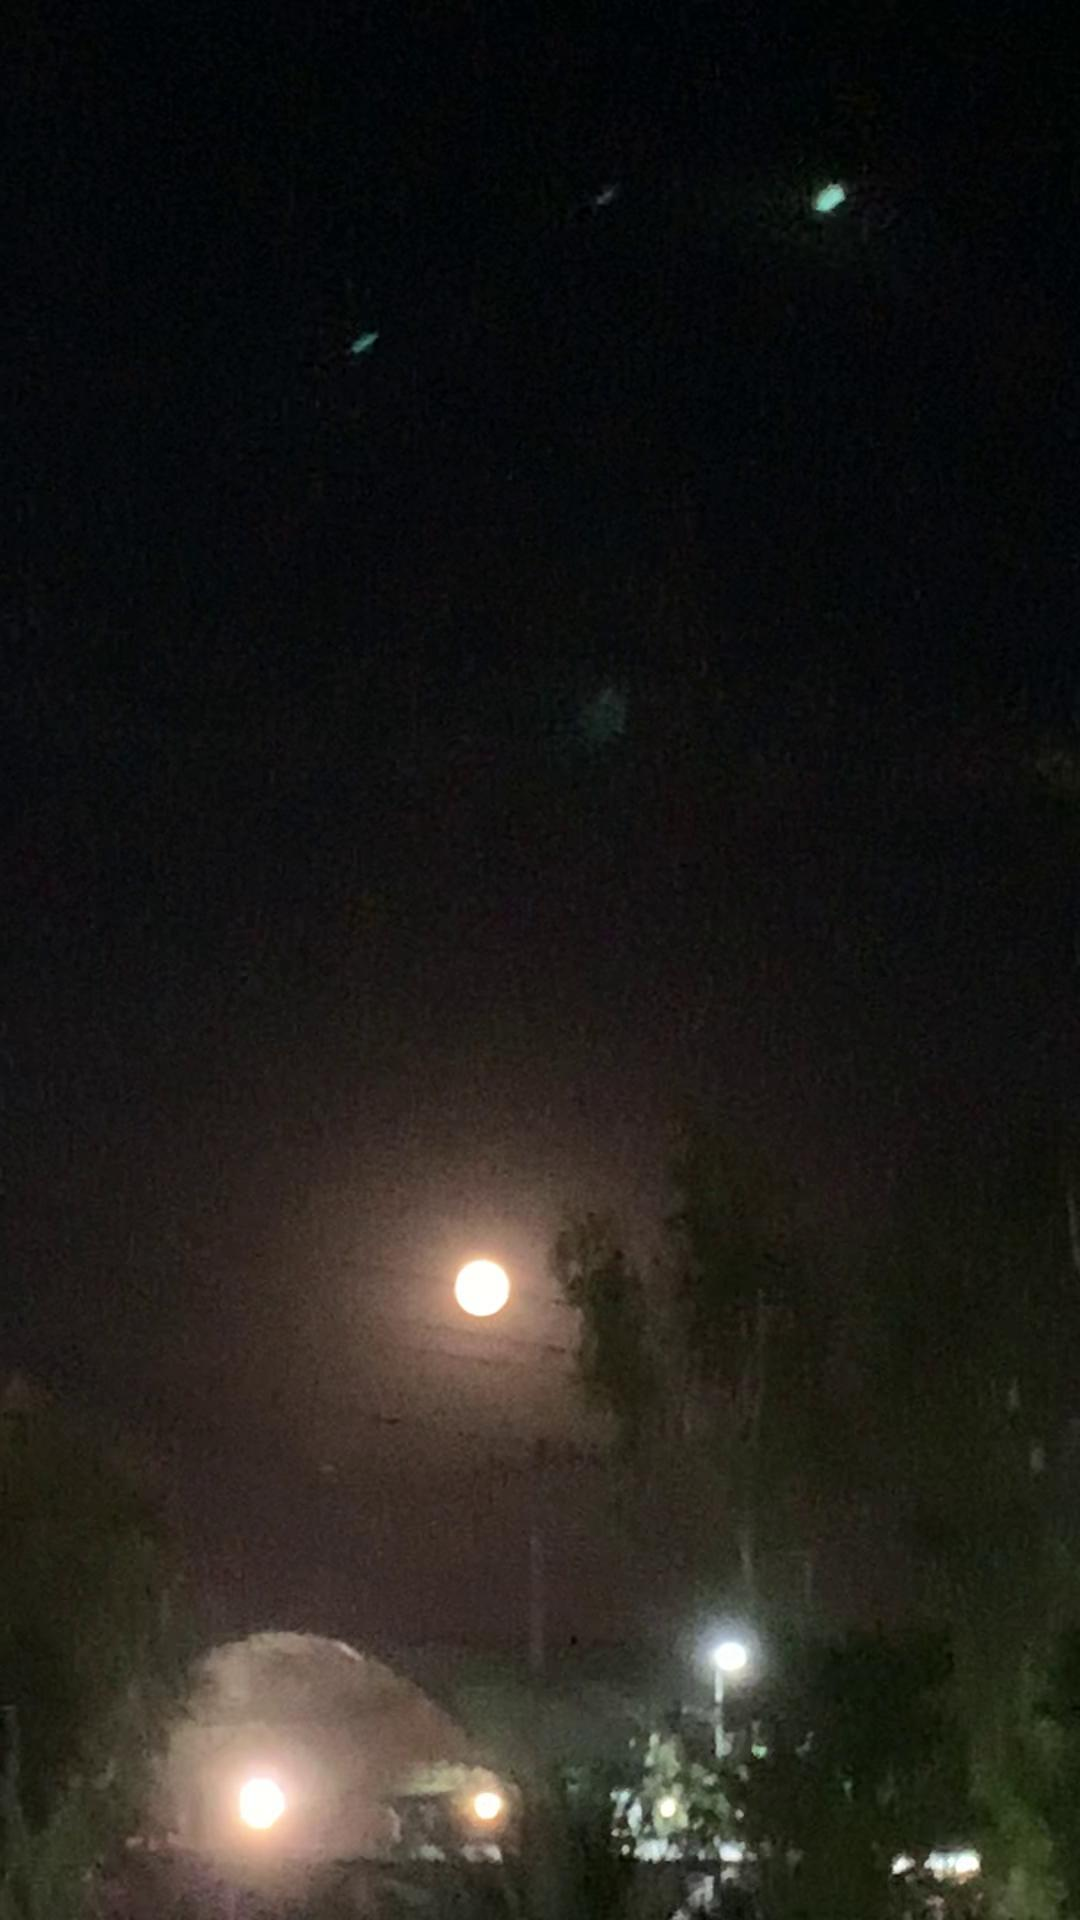moon: (436, 1241, 525, 1317)
